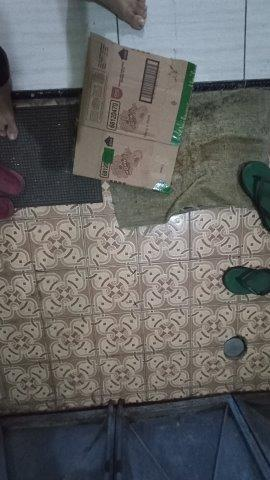kardus: (75, 33, 196, 190)
